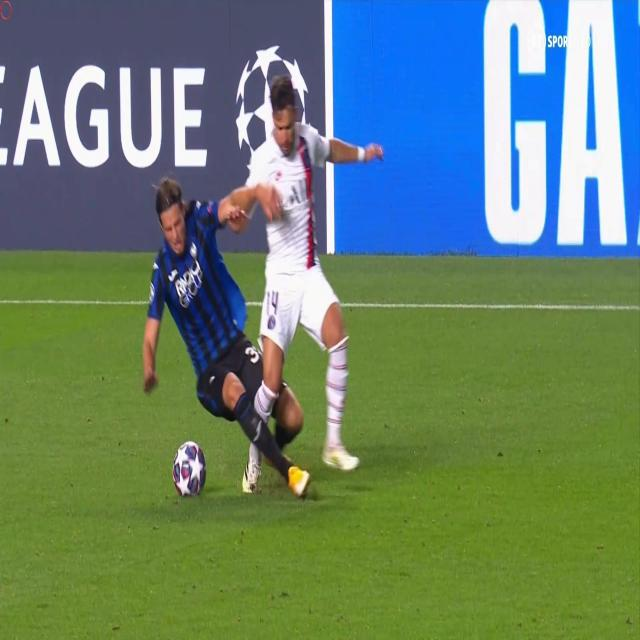ball: (168, 432, 210, 502)
player: (215, 50, 372, 499), (131, 146, 304, 512)
